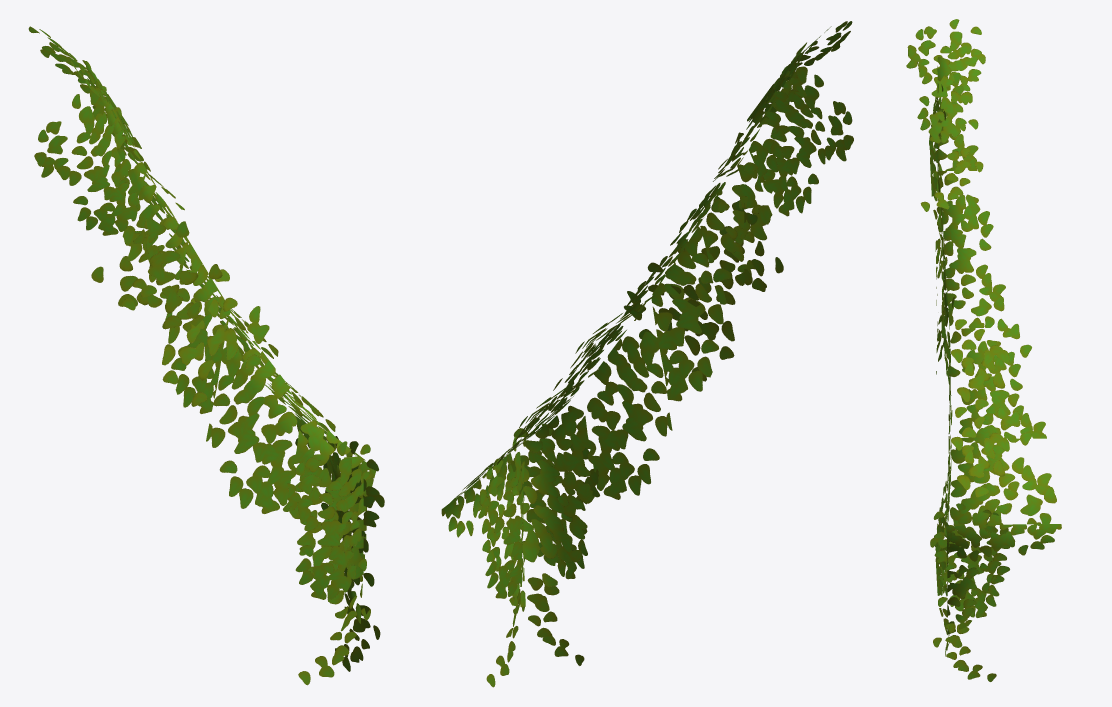
File: SM_Vine_Roof_01.fbx
3 views of the same model, side by side, from view 1: azimuth 30°, elevation 25°; view 2: azimuth 150°, elevation 25°; view 3: azimuth 270°, elevation 25° (orthographic). The views are drawn at different scales.
Visible parts, largest first — view 1: SM_Vine_Roof_01; view 2: SM_Vine_Roof_01; view 3: SM_Vine_Roof_01.
Boxes of the visible parts, left/top/right/bottom form: SM_Vine_Roof_01: left=28, top=26, right=384, bottom=685; SM_Vine_Roof_01: left=441, top=21, right=853, bottom=687; SM_Vine_Roof_01: left=906, top=19, right=1061, bottom=681.
Bounding box in the file's own units: 5.32 × 10.33 × 3.33.
